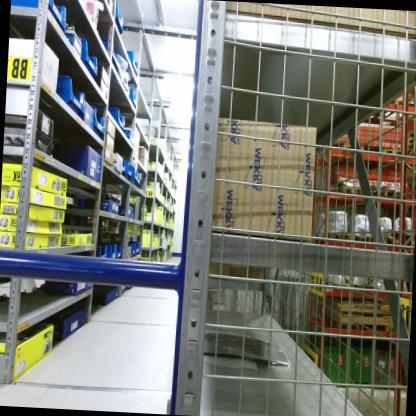pallet: (330, 182, 366, 201), (313, 227, 352, 242), (366, 229, 397, 247), (387, 98, 413, 118), (334, 140, 367, 154), (396, 230, 414, 252), (328, 319, 363, 330), (382, 187, 403, 200), (375, 149, 402, 159), (386, 324, 405, 335), (350, 230, 366, 243), (403, 174, 416, 187), (405, 131, 416, 140), (405, 142, 416, 151), (406, 135, 416, 144)
